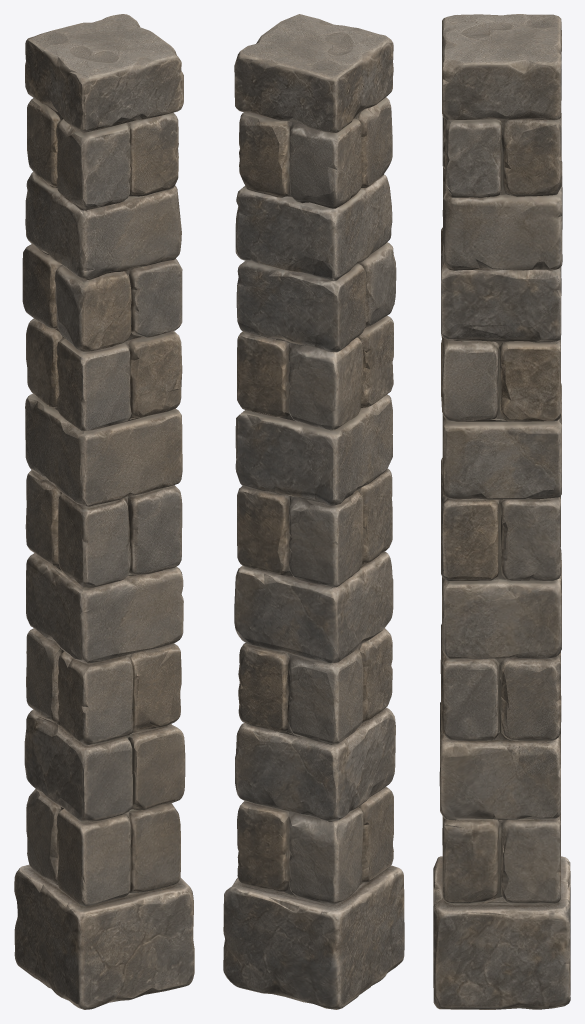
File: pillar.glb
The picture shows the model from 3 angles, left to right: view 1: azimuth 30°, elevation 25°; view 2: azimuth 150°, elevation 25°; view 3: azimuth 270°, elevation 25°; orthographic projection.
Visible parts, largest first — view 1: output_unwrapped; view 2: output_unwrapped; view 3: output_unwrapped.
Boxes of the visible parts, <box> form: output_unwrapped: <box>14,14,194,1009</box>; output_unwrapped: <box>223,14,404,1009</box>; output_unwrapped: <box>433,14,570,1009</box>.
Bounding box in the file's own units: 0.2512 × 1.9 × 0.2511.
Materials: 1 (1 with a texture image).
